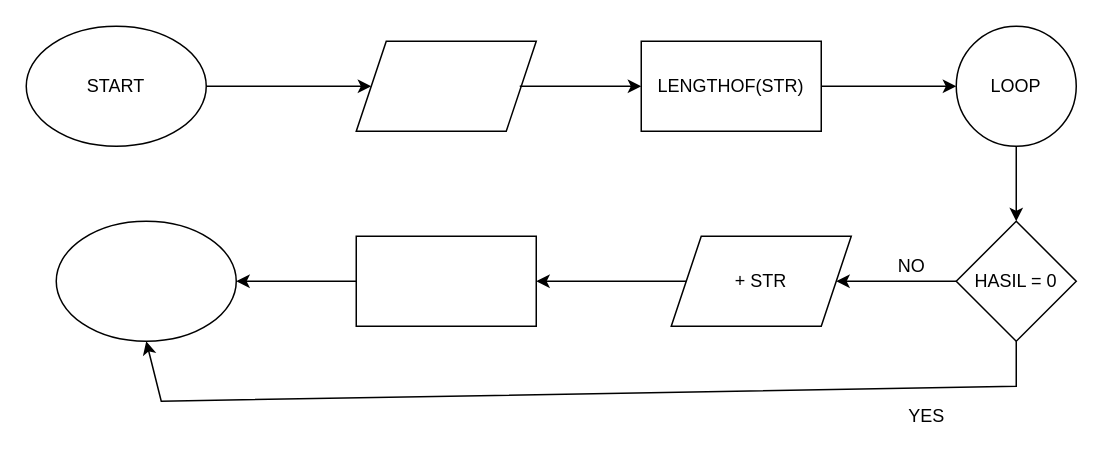
Some shapes in this 1103 by 458 pixel diagram are drawn without their labels. The shapes that lost their labels are listed below. From the top down, each one's box as (x1, y1, x2, y2) in pixels, then its label:
(355, 40, 536, 131): GET STR
(55, 220, 236, 341): END
(355, 235, 536, 326): HASIL = 1
